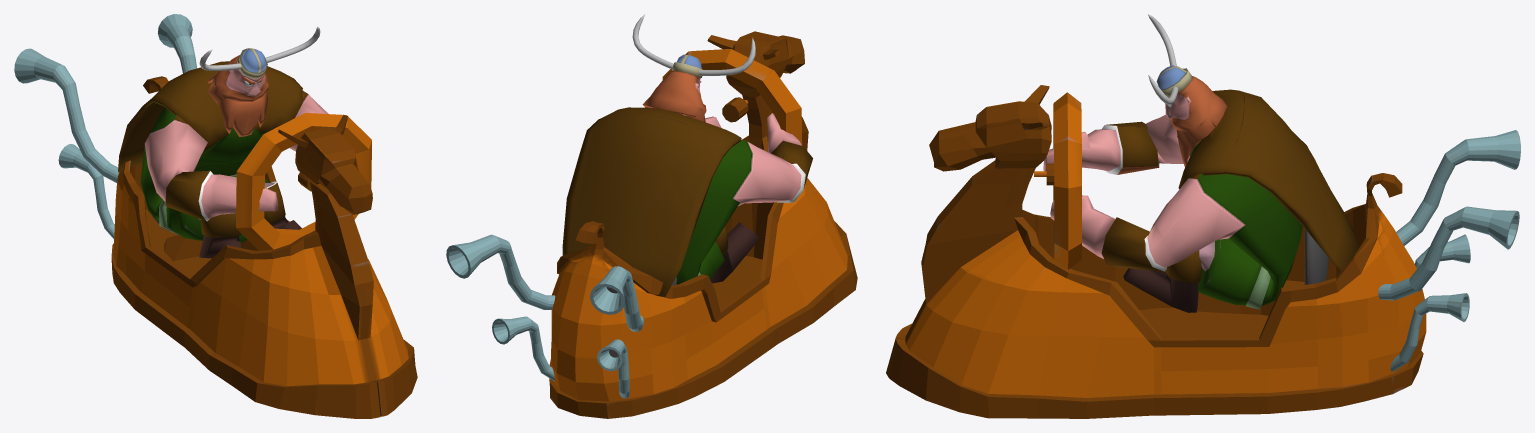
Rendered from vikingoVacile_000479.obj.
3 views of the same model, side by side, from view 1: azimuth 30°, elevation 25°; view 2: azimuth 150°, elevation 25°; view 3: azimuth 270°, elevation 25° (orthographic). The views are drawn at different scales.
Visible parts, largest first — view 1: kartVikingo, Vikingo; view 2: kartVikingo, Vikingo; view 3: kartVikingo, Vikingo.
Boxes of the visible parts, <box> form: kartVikingo: <box>14,14,417,418</box>; Vikingo: <box>118,26,328,258</box>; kartVikingo: <box>446,31,857,418</box>; Vikingo: <box>562,14,812,297</box>; kartVikingo: <box>886,85,1520,418</box>; Vikingo: <box>1043,14,1358,312</box>.
Size of the model in its own units: 4.13 by 5.97 by 10.31.
Materials: 2 (2 with a texture image).
